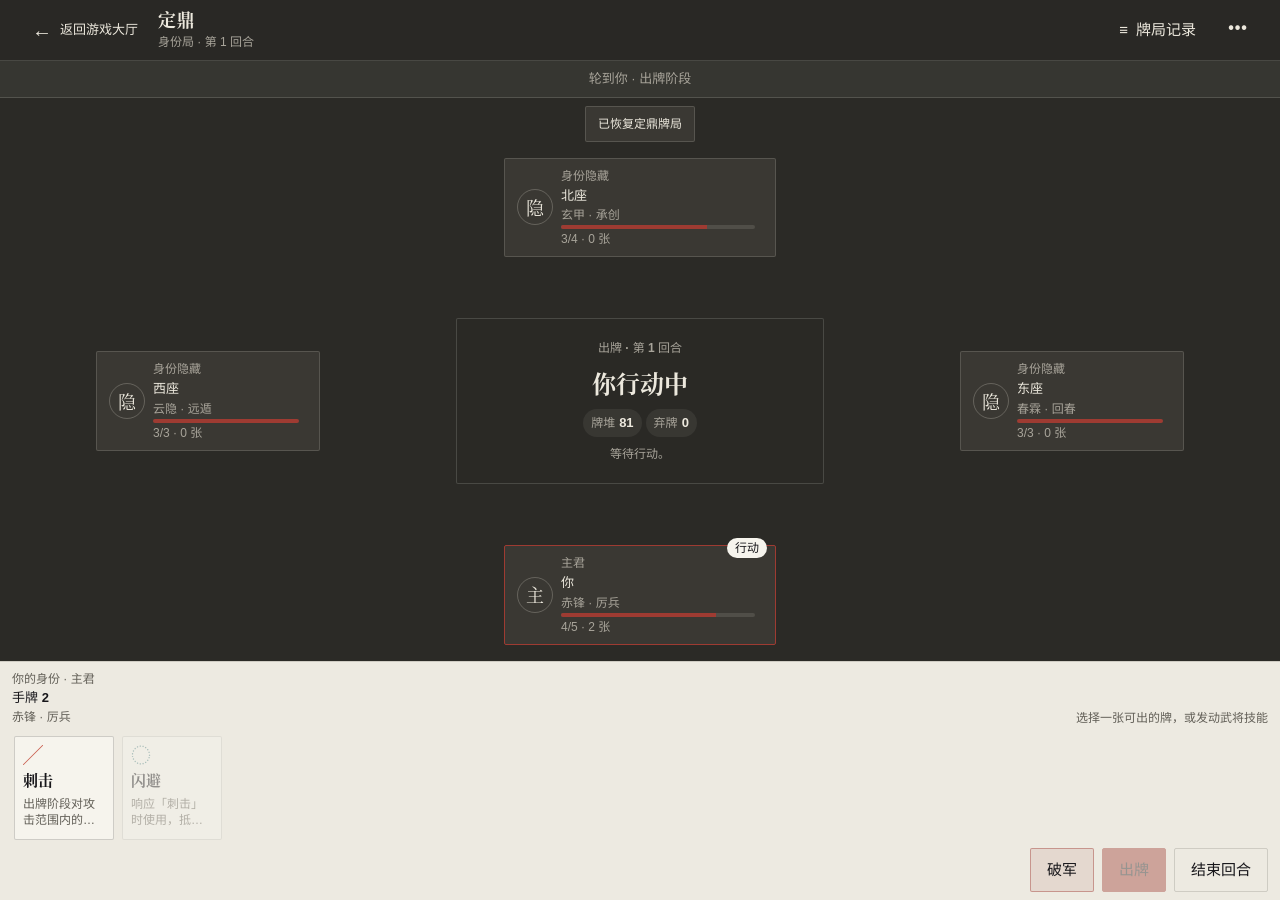
Test case: DingDingGame active skill flow › only offers cards that satisfy an active skill's discard filter
Click the button "破军". click: (1062, 870)
box: [1030,848,1094,892]
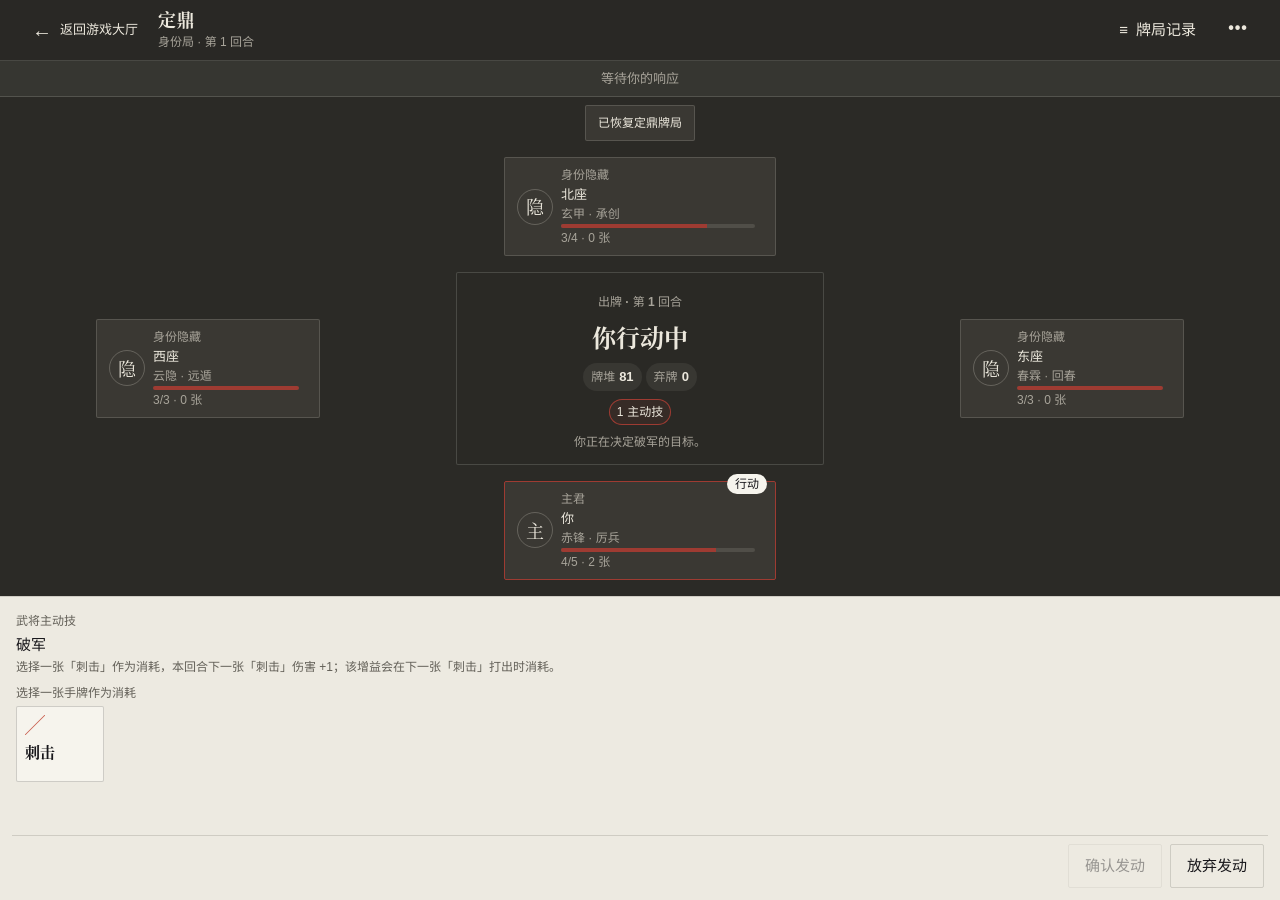
Now the button "确认发动" is disabled, box [1068,844,1162,888]
Click the button with aria-label "选择「刺击」作为技能消耗". click: (60, 744)
box: [16,706,104,782]
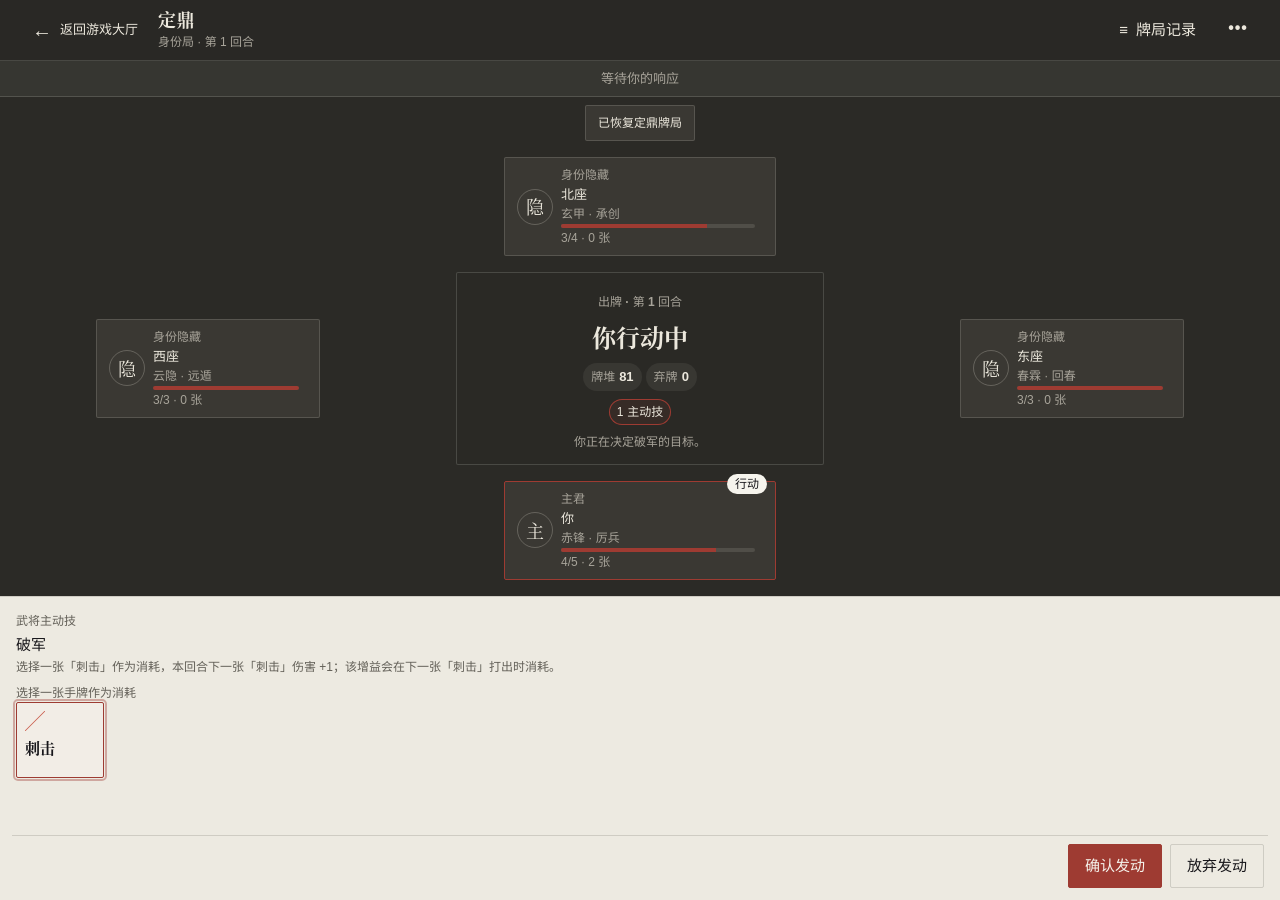
Now the button "确认发动" is enabled
Click the button "确认发动". click: (1115, 866)
box: [1068,844,1162,888]
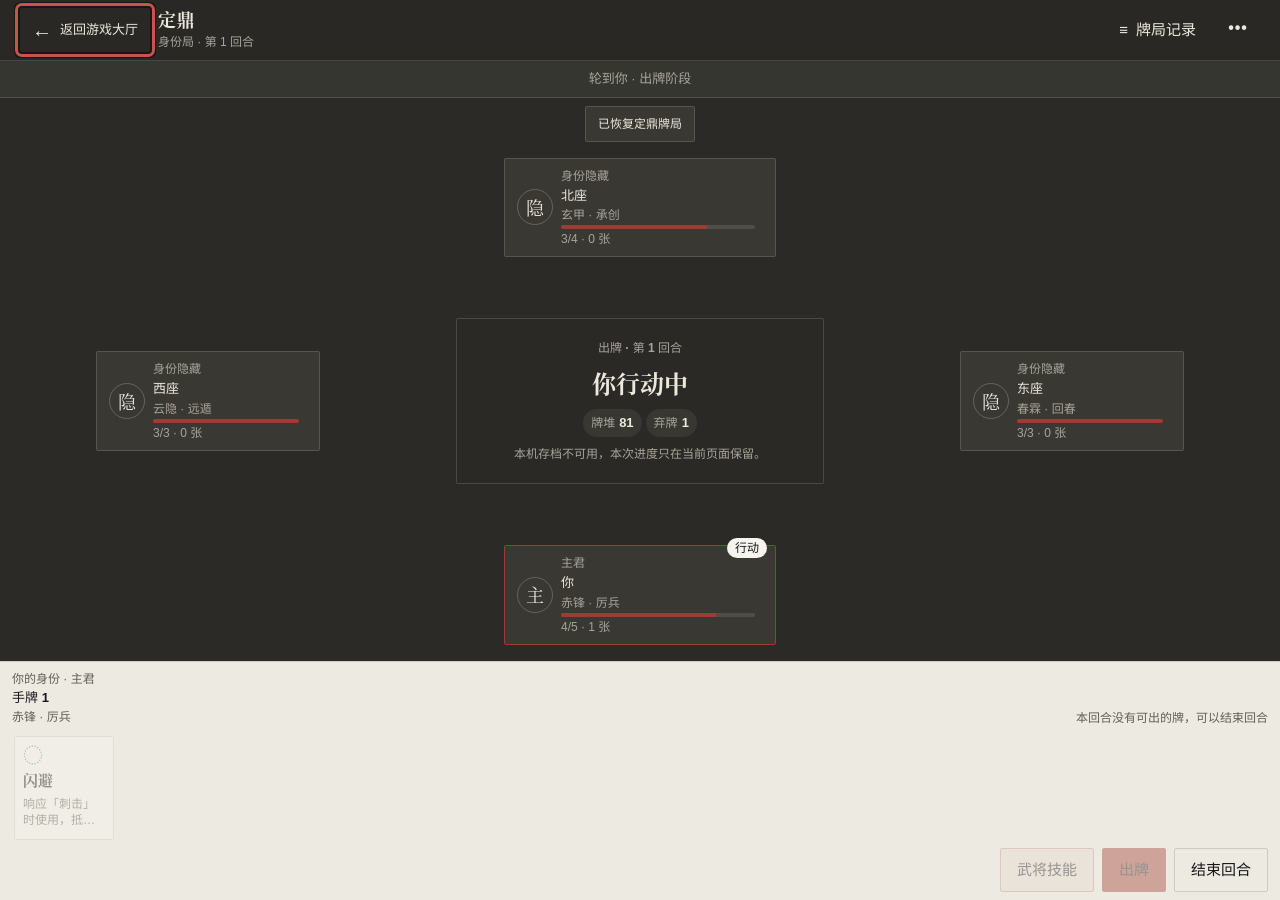
Now the text "武将主动技" is gone
